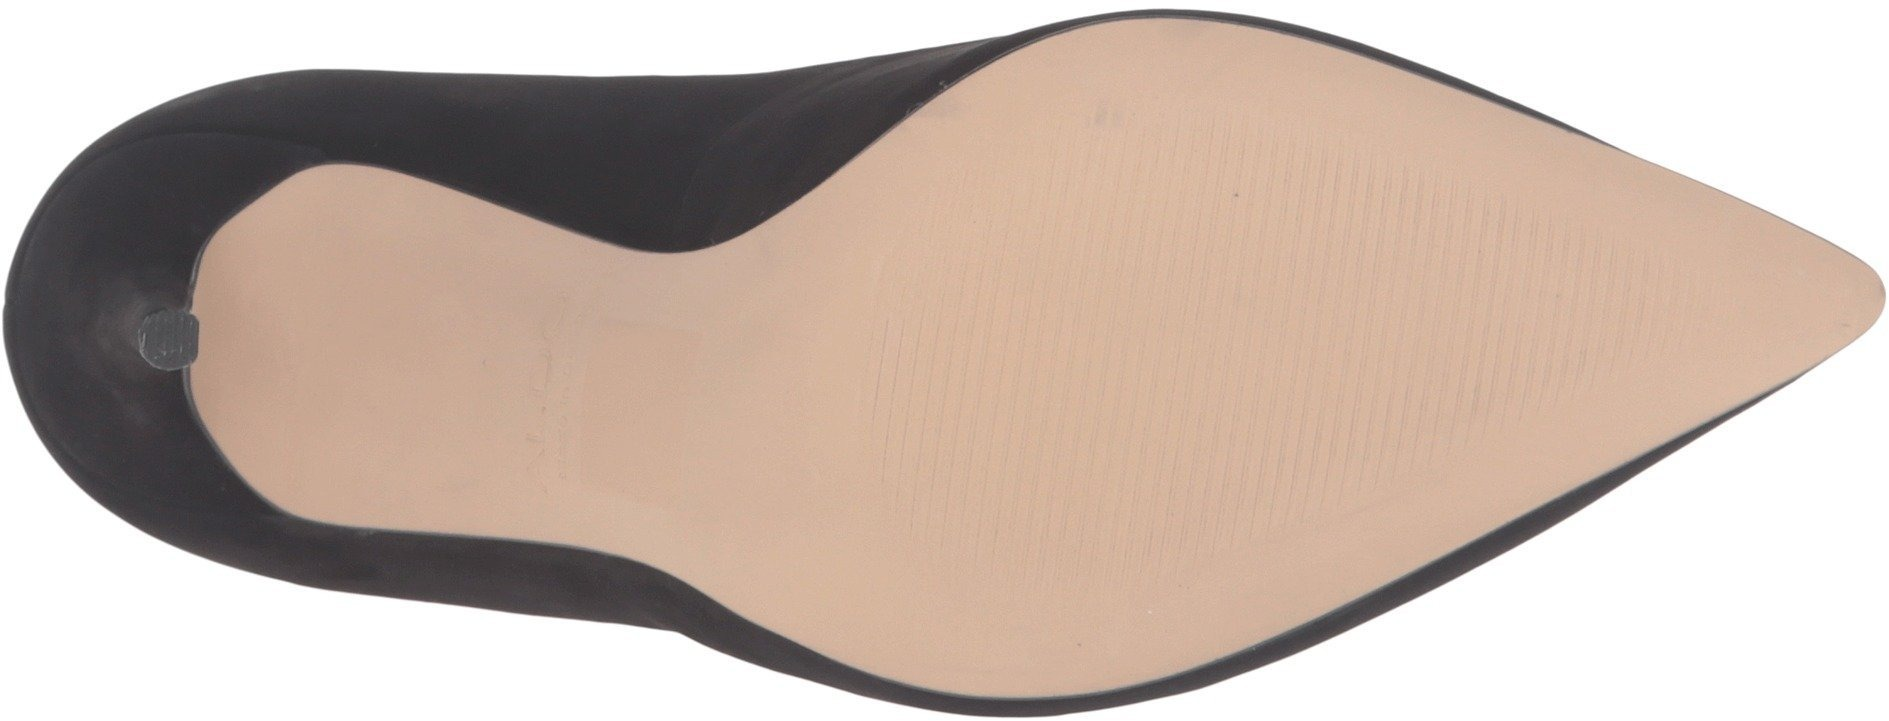other: (1100, 142, 1363, 368), (853, 297, 1096, 506), (1365, 213, 1573, 409), (1104, 373, 1285, 540), (879, 562, 1016, 682), (151, 321, 198, 369)
